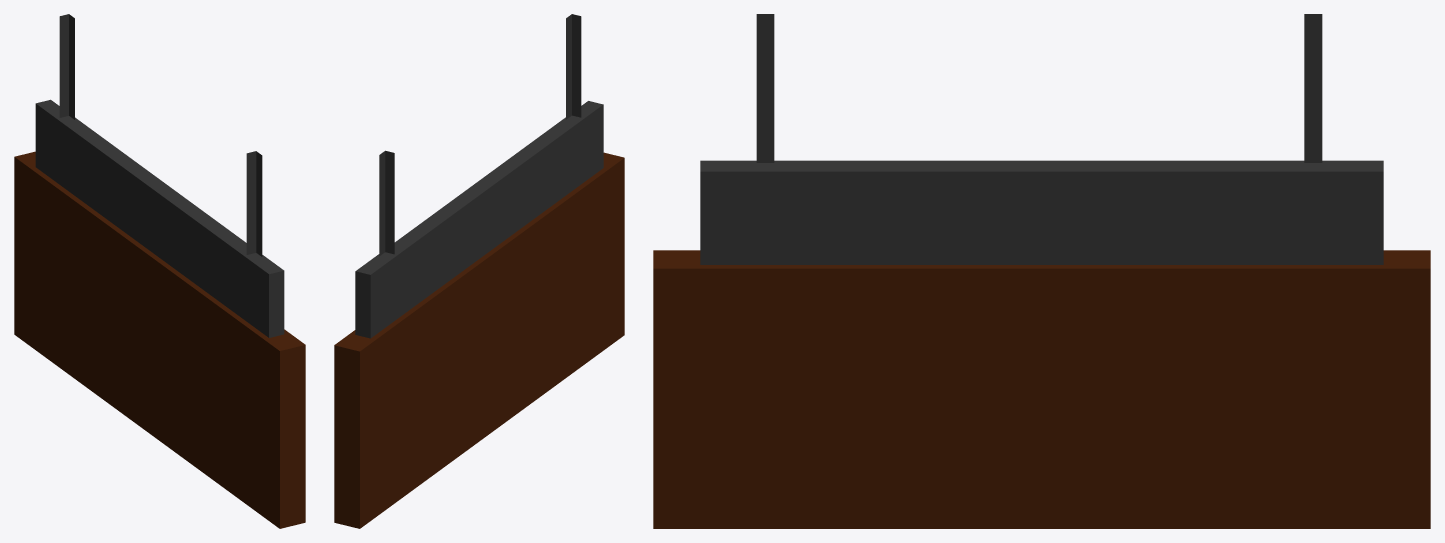
The model's file is placa3.fbx.
3 views of the same model, side by side, from view 1: azimuth 30°, elevation 25°; view 2: azimuth 150°, elevation 25°; view 3: azimuth 270°, elevation 25° (orthographic). The views are drawn at different scales.
Visible parts, largest first — view 1: Cube.009; view 2: Cube.009; view 3: Cube.009.
Part boxes in pixels (x1,y1,x2,y2): Cube.009: (14,14,305,528); Cube.009: (334,14,624,528); Cube.009: (653,14,1430,528).
Size of the model in its own units: 16.91 by 215 by 302.
